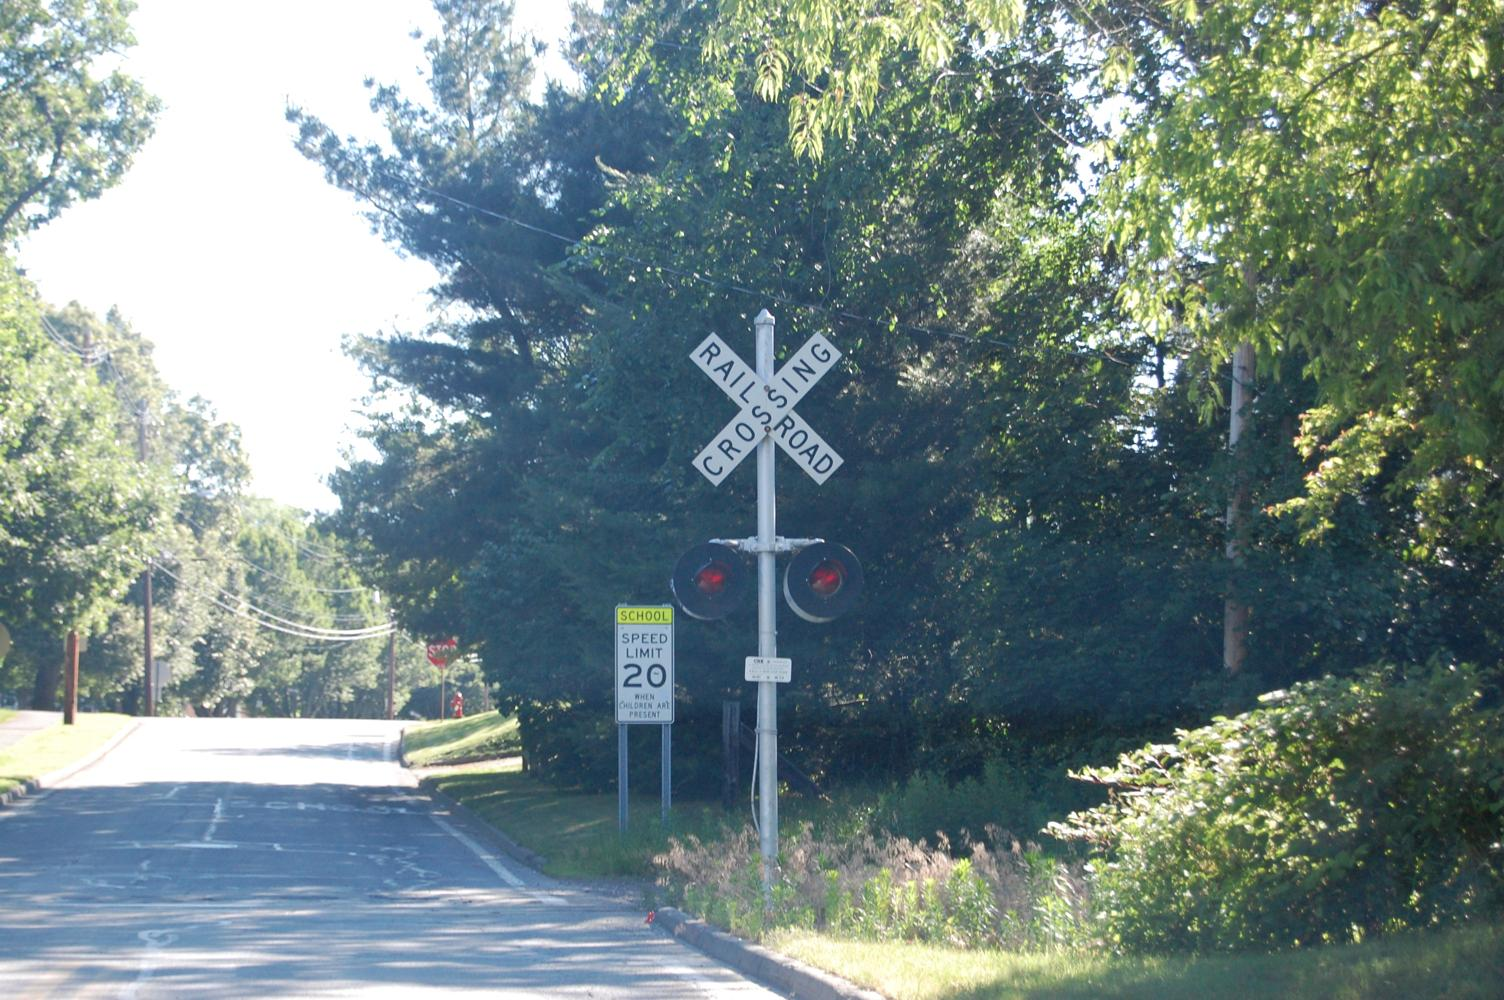stop: (420, 616, 465, 669)
